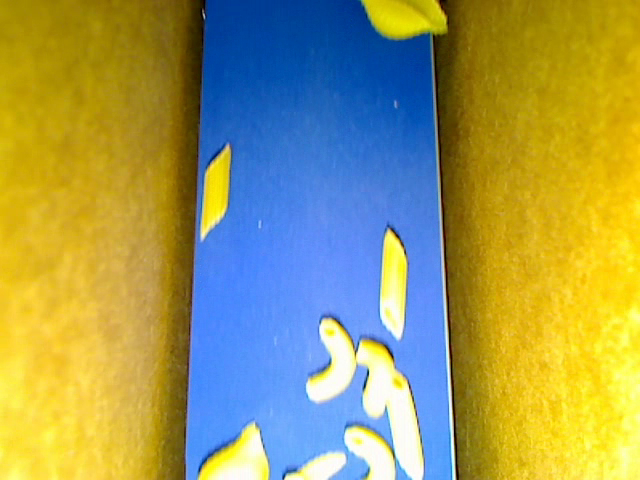elbow: (305, 317, 355, 403), (355, 338, 395, 418), (344, 425, 395, 479)
penne: (386, 368, 424, 479), (379, 225, 407, 342), (200, 143, 230, 239)
shell: (197, 419, 272, 479), (359, 1, 447, 39)
